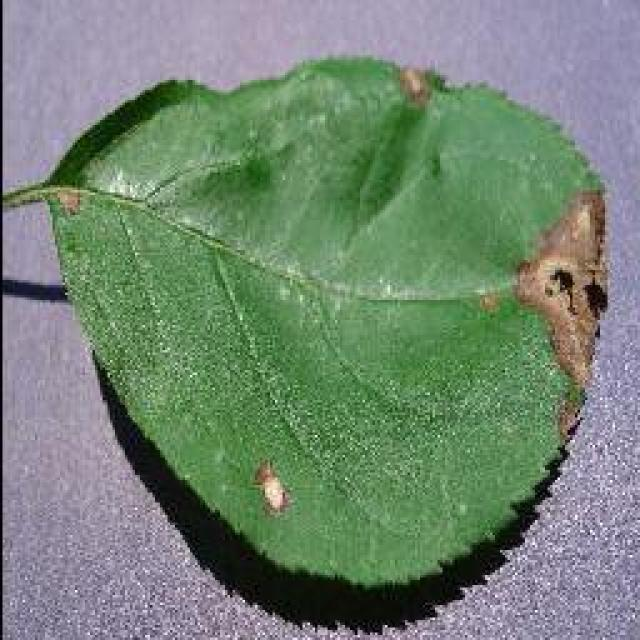Apple___Black_rot: (36, 53, 612, 594)
